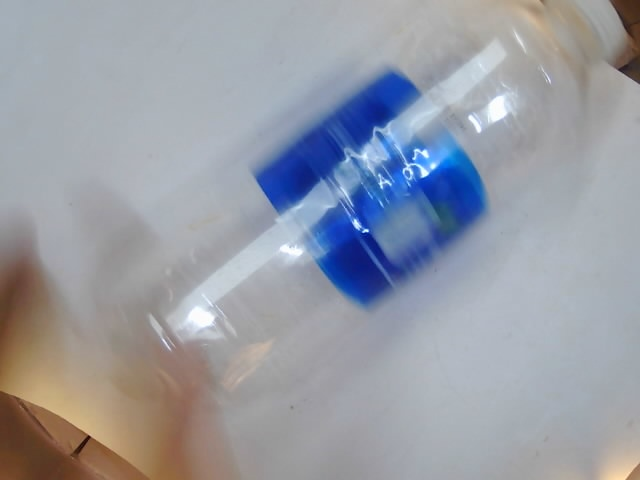plastic: (142, 7, 599, 401)
